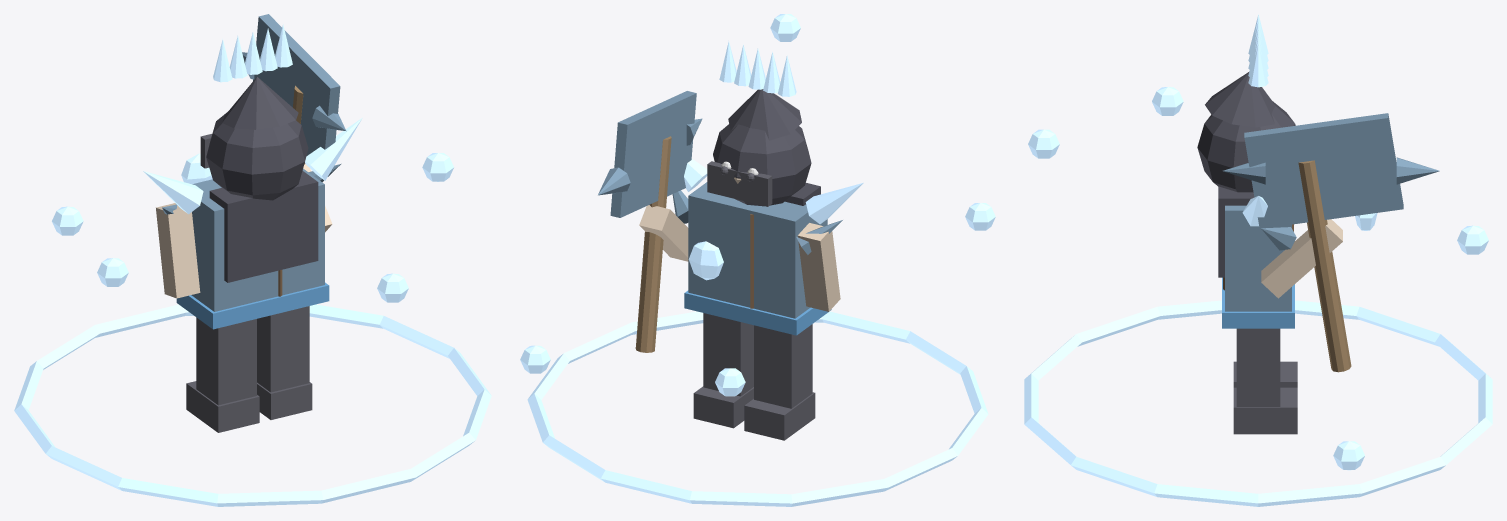
File: evolved_executioner.glb
3 renders of one model, left to right at view 1: azimuth 30°, elevation 25°; view 2: azimuth 150°, elevation 25°; view 3: azimuth 270°, elevation 25°, orthographic. The views are drawn at different scales.
Parts seen in each view (by area): view 1: evolved_executioner; view 2: evolved_executioner; view 3: evolved_executioner.
Part boxes in pixels (box(x1,y1,x2,y2)): evolved_executioner: box(14, 14, 491, 506); evolved_executioner: box(520, 14, 995, 506); evolved_executioner: box(1024, 14, 1492, 506).
Bounding box in the file's own units: 3.63 × 3.19 × 3.54.
